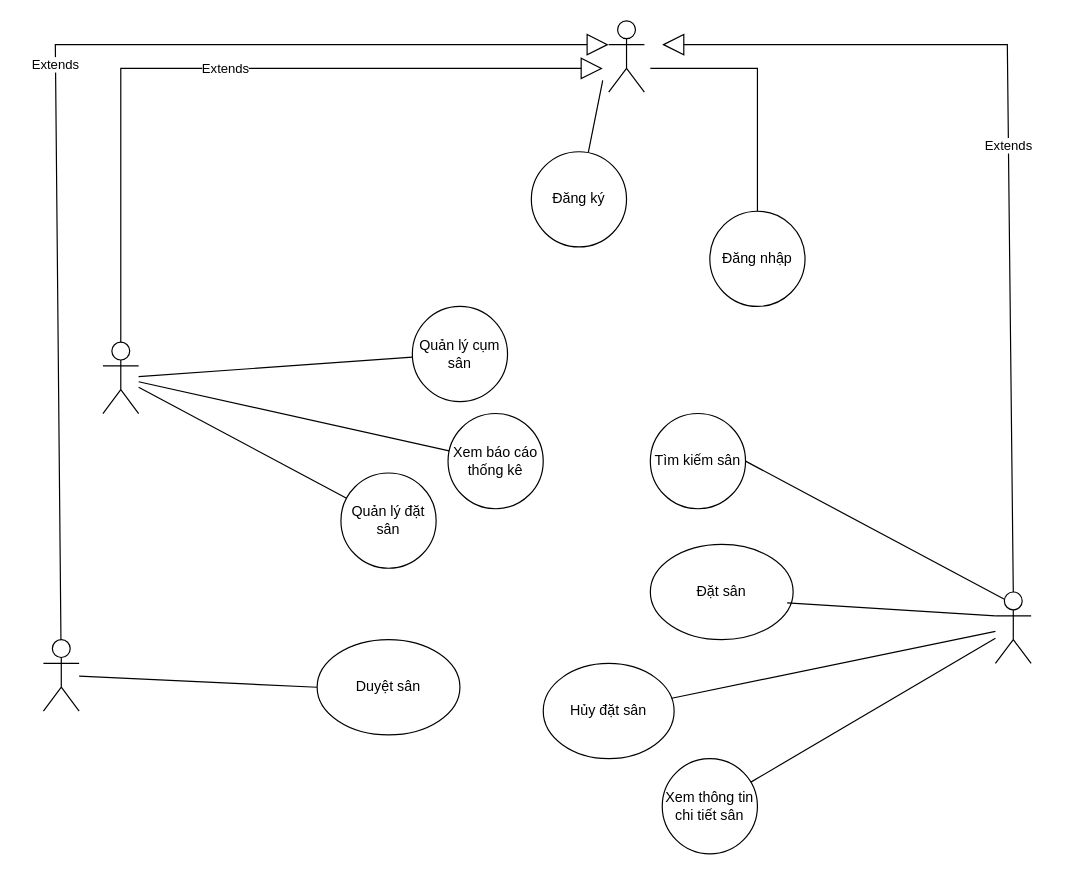
The diagram is 1071 pixels wide and 875 high, and some of its shapes have lost their labels. The centre of each missing label's shape, as x and y in pixels:
"Chủ sân" goes at point 120,377.
"Khách hàng" goes at point 1012,627.
"Quản trị viên" goes at point 60,674.
"User" goes at point 625,56.
